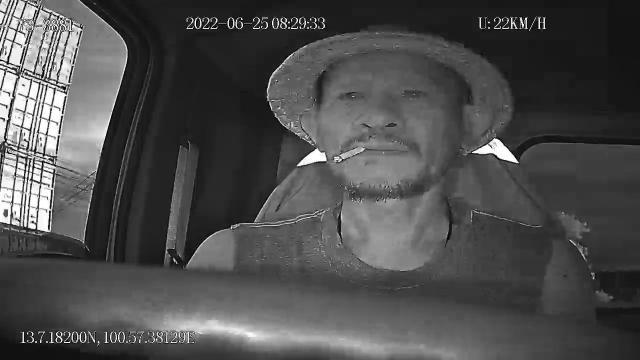SafeDriving: (332, 82, 370, 108), (394, 82, 434, 106)
Smoking: (333, 145, 365, 163)
